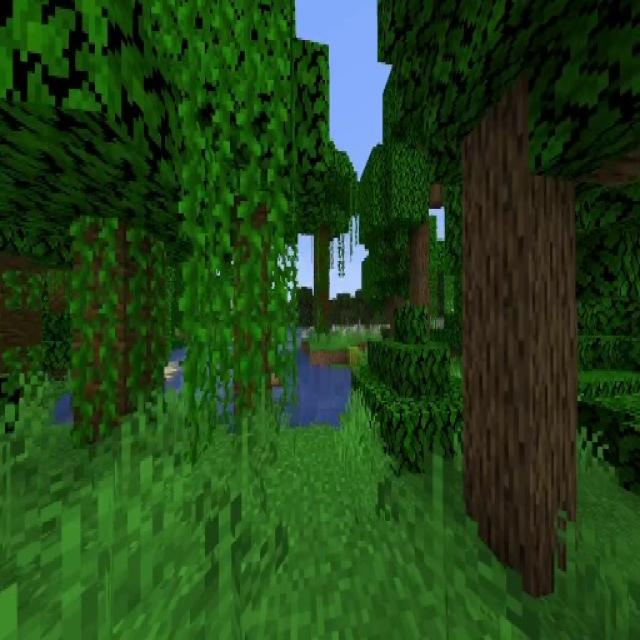jungle_log: (74, 223, 164, 431), (314, 239, 332, 337)
oak_log: (411, 222, 430, 306)
